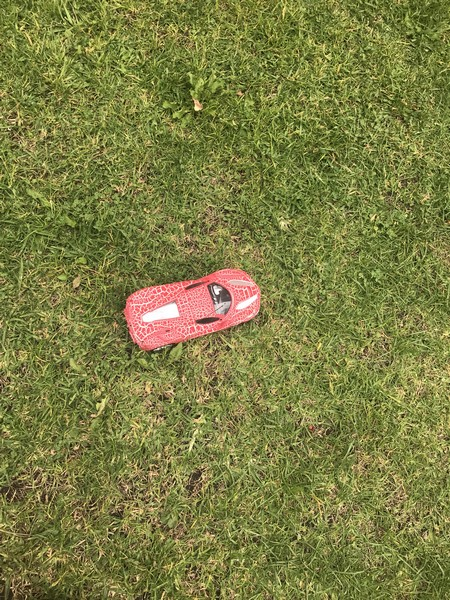RC: (122, 269, 263, 354)
